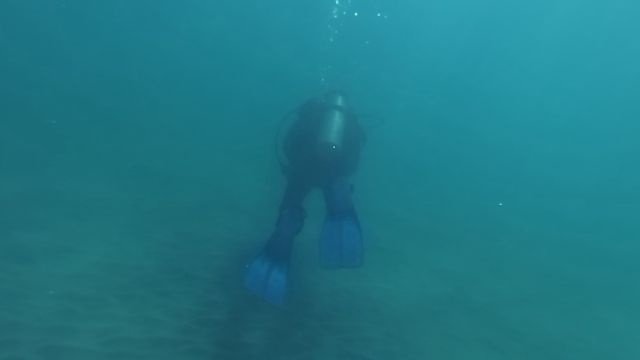Diver: (237, 85, 374, 313)
